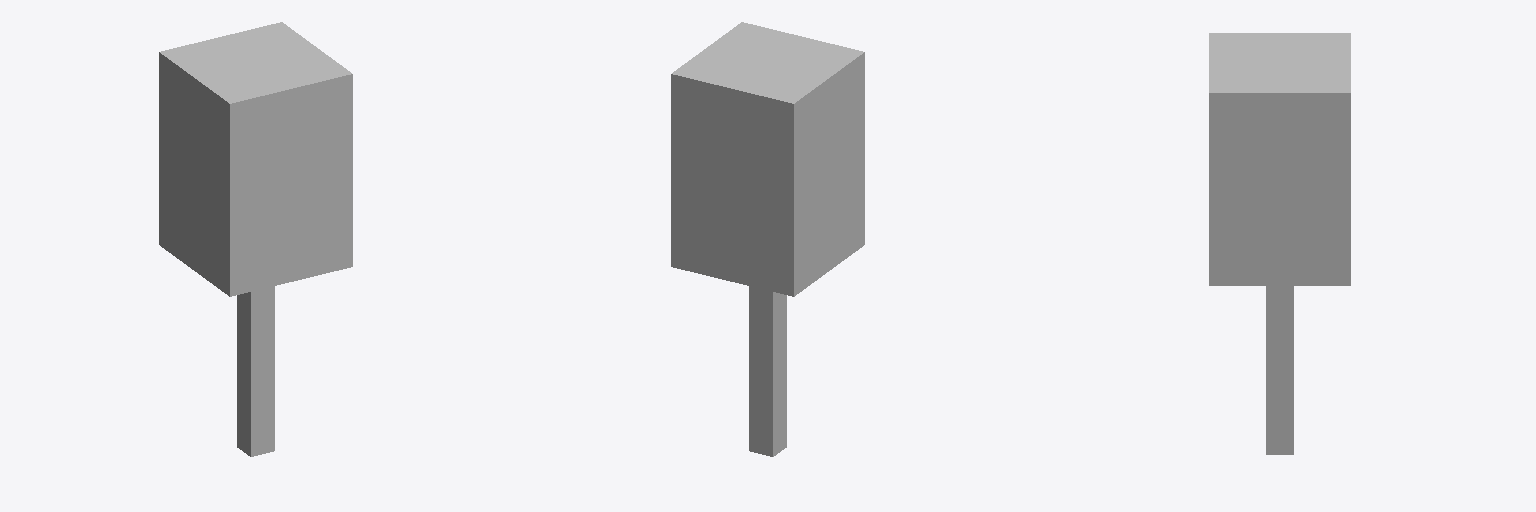
The model's file is Tree1.obj.
3 renders of one model, left to right at view 1: azimuth 30°, elevation 25°; view 2: azimuth 150°, elevation 25°; view 3: azimuth 270°, elevation 25°, orthographic.
Visible parts, largest first — view 1: object 1; view 2: object 1; view 3: object 1.
Part boxes in pixels (x1,y1,x2,y2): object 1: (159, 22, 352, 456); object 1: (671, 22, 864, 456); object 1: (1209, 33, 1350, 454).
Size of the model in its own units: 1 by 3 by 1.